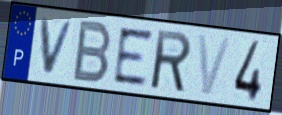4: (232, 38, 264, 105)
B: (70, 18, 114, 85)
E: (112, 25, 155, 87)
R: (150, 28, 193, 95)
V: (196, 32, 234, 98), (39, 17, 77, 77)
